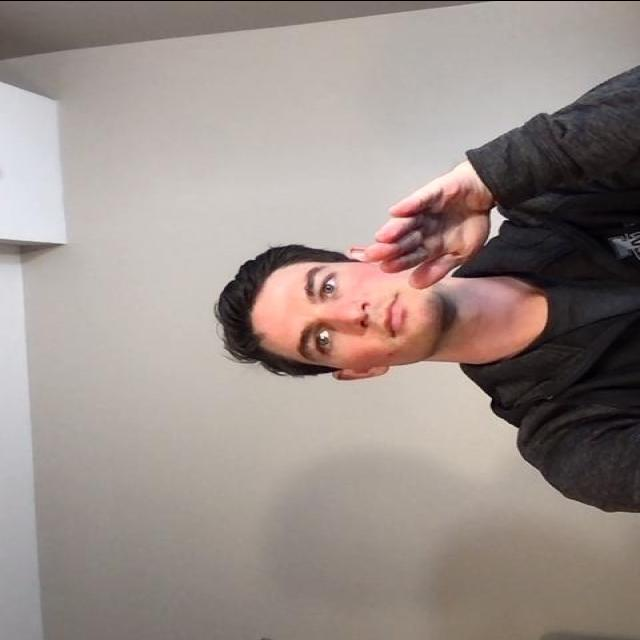Paper: (360, 160, 500, 293)
